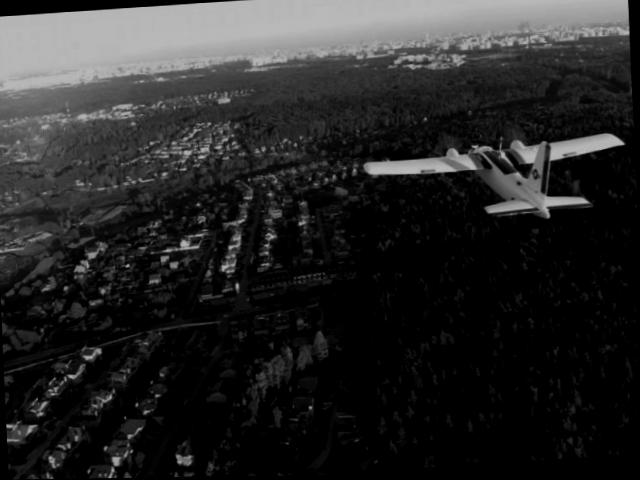hedef: (358, 119, 639, 241)
